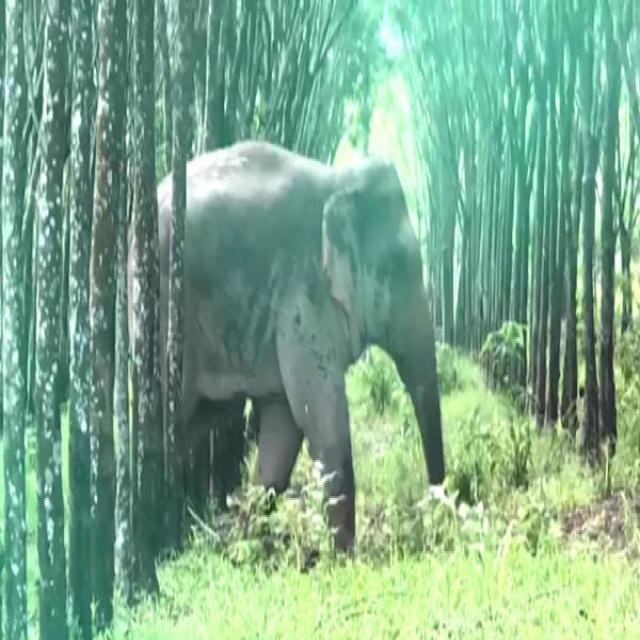Elephant: (141, 123, 461, 592)
